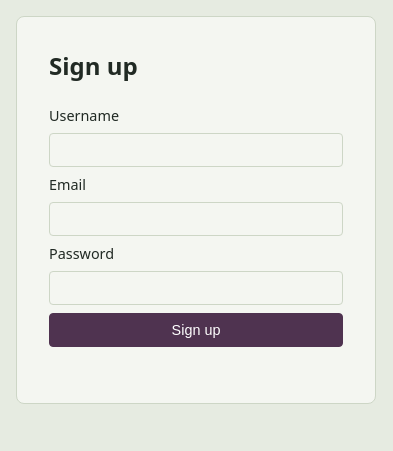
Test case: Signup error branches › shows a generic message when the error response has no parseable body
This screenshot has width=393, height=451.
Type "antonio" into the field labelled "Username". click: (196, 150)
box: 49,133 -> 343,167
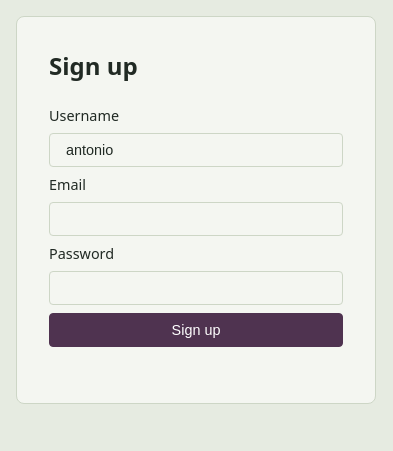
Type "antonio@example.com" into the field labelled "Email". click: (196, 219)
box: 49,202 -> 343,236
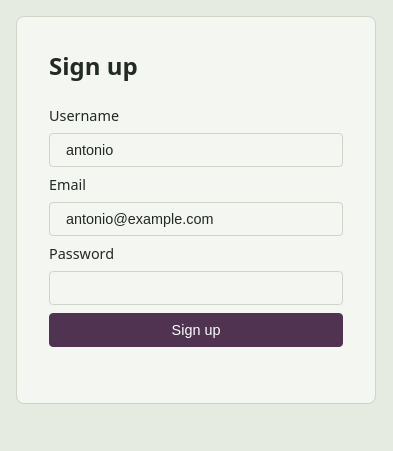
Type "short" into the password field labelled "Password". click: (196, 288)
box: 49,271 -> 343,305
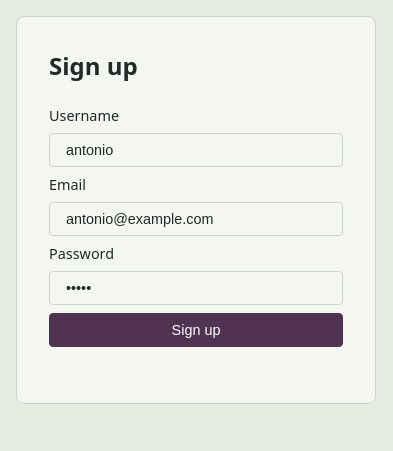
Click the button "Sign up". click: click(196, 330)
box: 49,313 -> 343,347
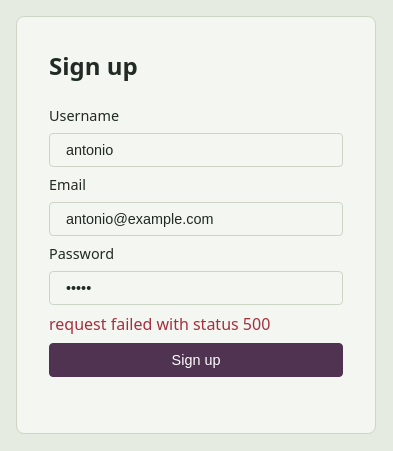
Expected: the message "request failed with status 500" is shown, 49,313 -> 270,335
